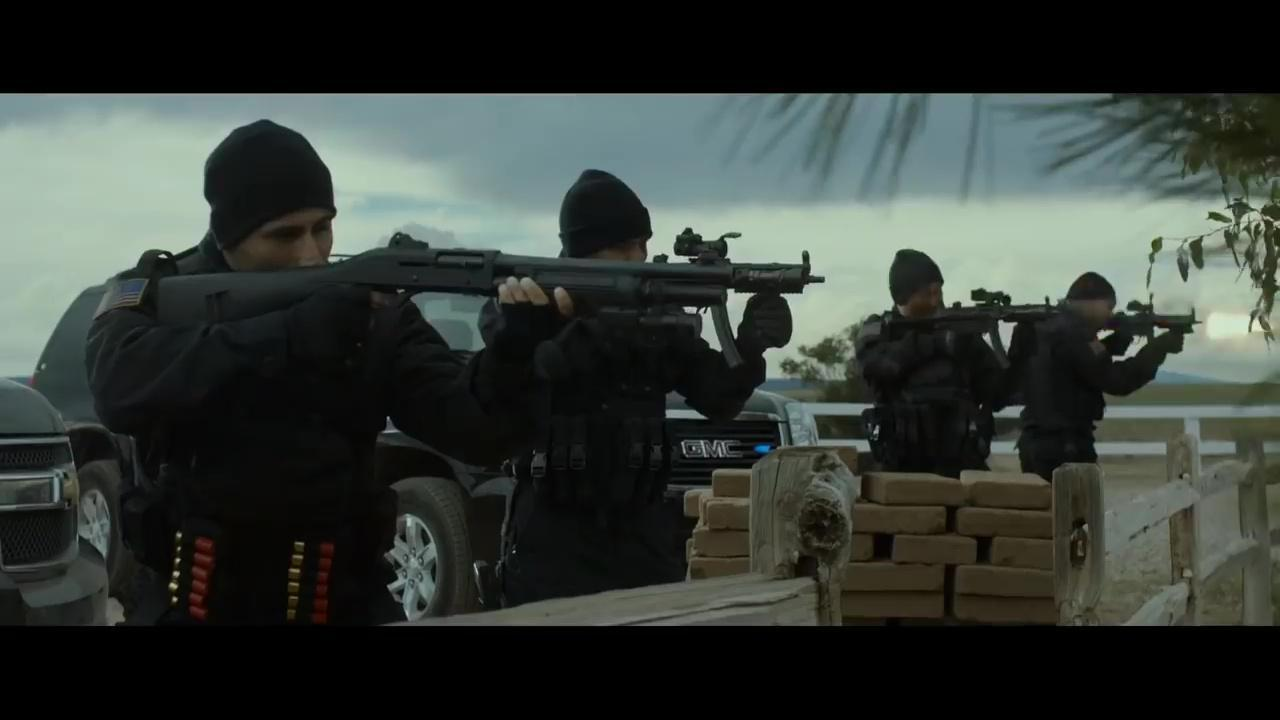Gun: (144, 222, 836, 382), (624, 218, 832, 384), (882, 284, 1070, 373), (1093, 294, 1213, 365)
Pistol: (856, 400, 891, 464)
